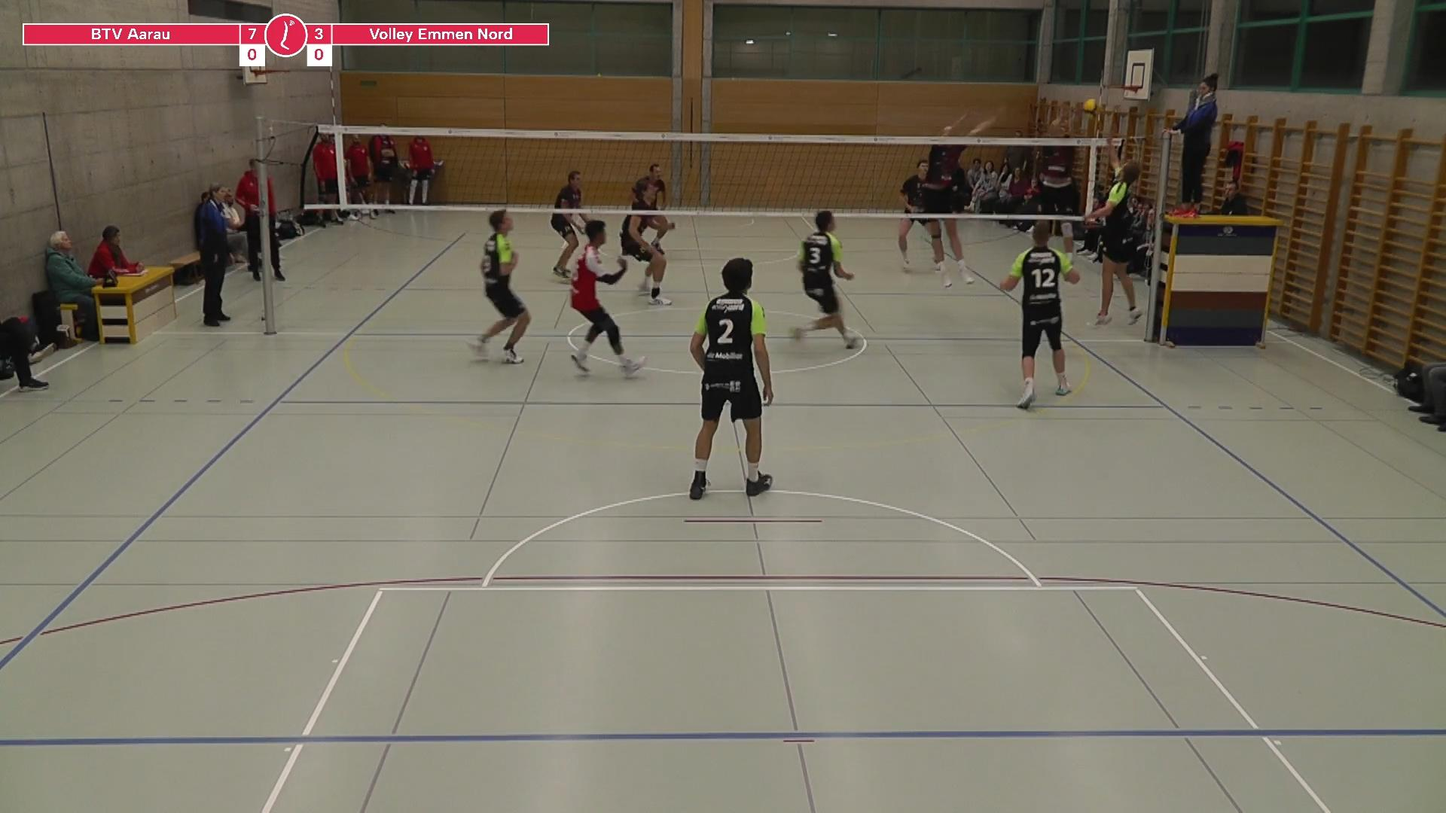attacco: (1080, 132, 1150, 327)
muro: (908, 101, 1002, 290), (1029, 90, 1080, 251)
